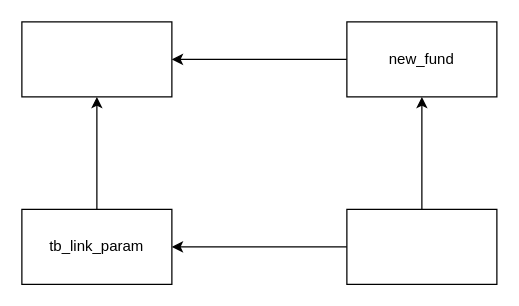
Image size: 519x306. Some labels were removed from this diagram. Each missing label, with the centre of its shape:
"fund_param_value" belongs at [421,246].
"tb_link_button" belongs at [96,59].
